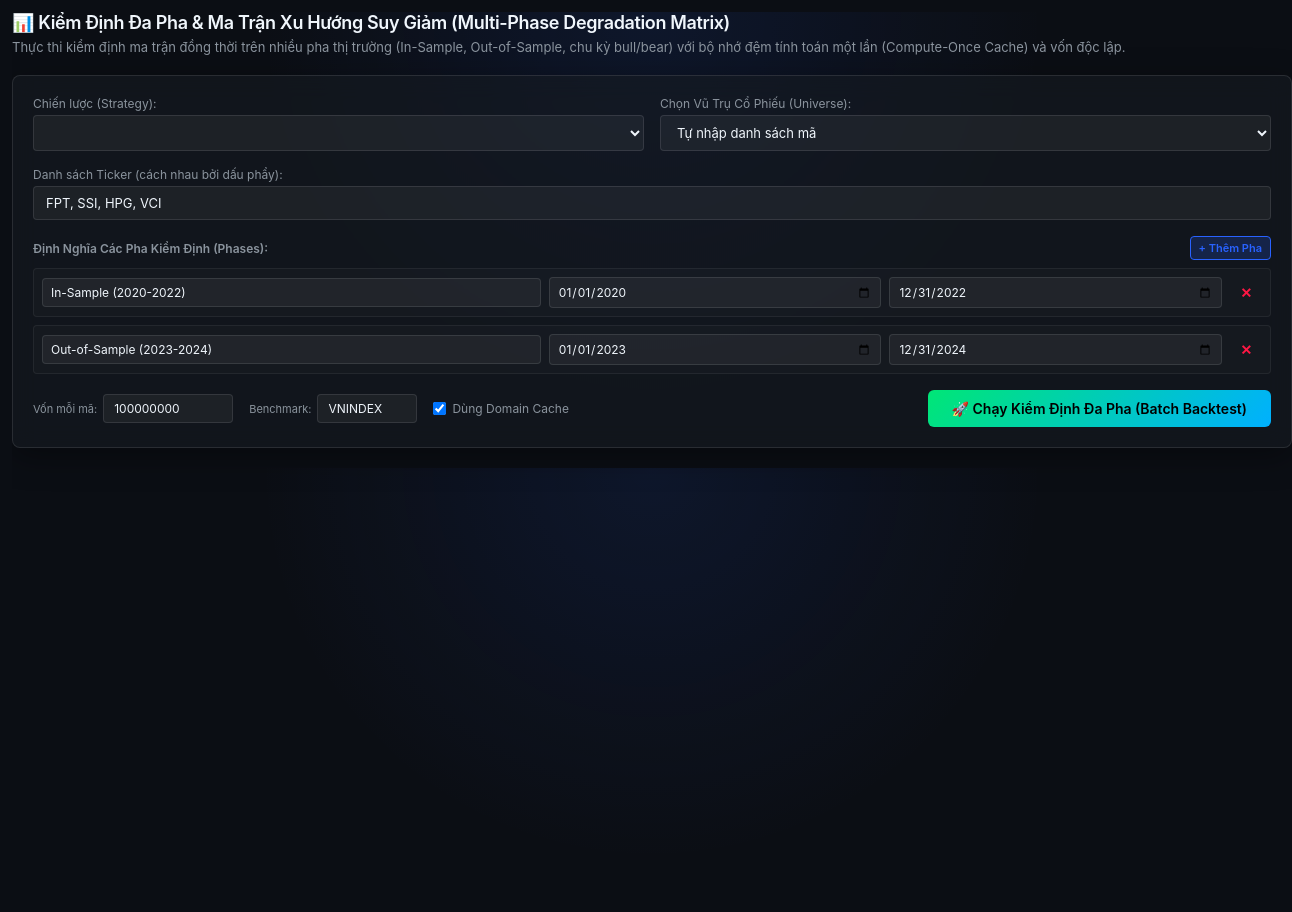
Test: MultiPhaseBatchPanel Component (FR-CORE-010, FR-CORE-012, Master F.5) › renders phase editor and allows adding new phases (FR-CORE-010)
This screenshot has width=1292, height=912.
Expected: the element with test id "multi-phase-batch-panel" is shown, [12,12,1291,448]
Expected: the element with test id "phase-row-0" is shown, [33,268,1271,317]
# Click Add Phase
Click the button with test id "add-phase-btn" at (1230, 248), box [1190,236,1271,260]
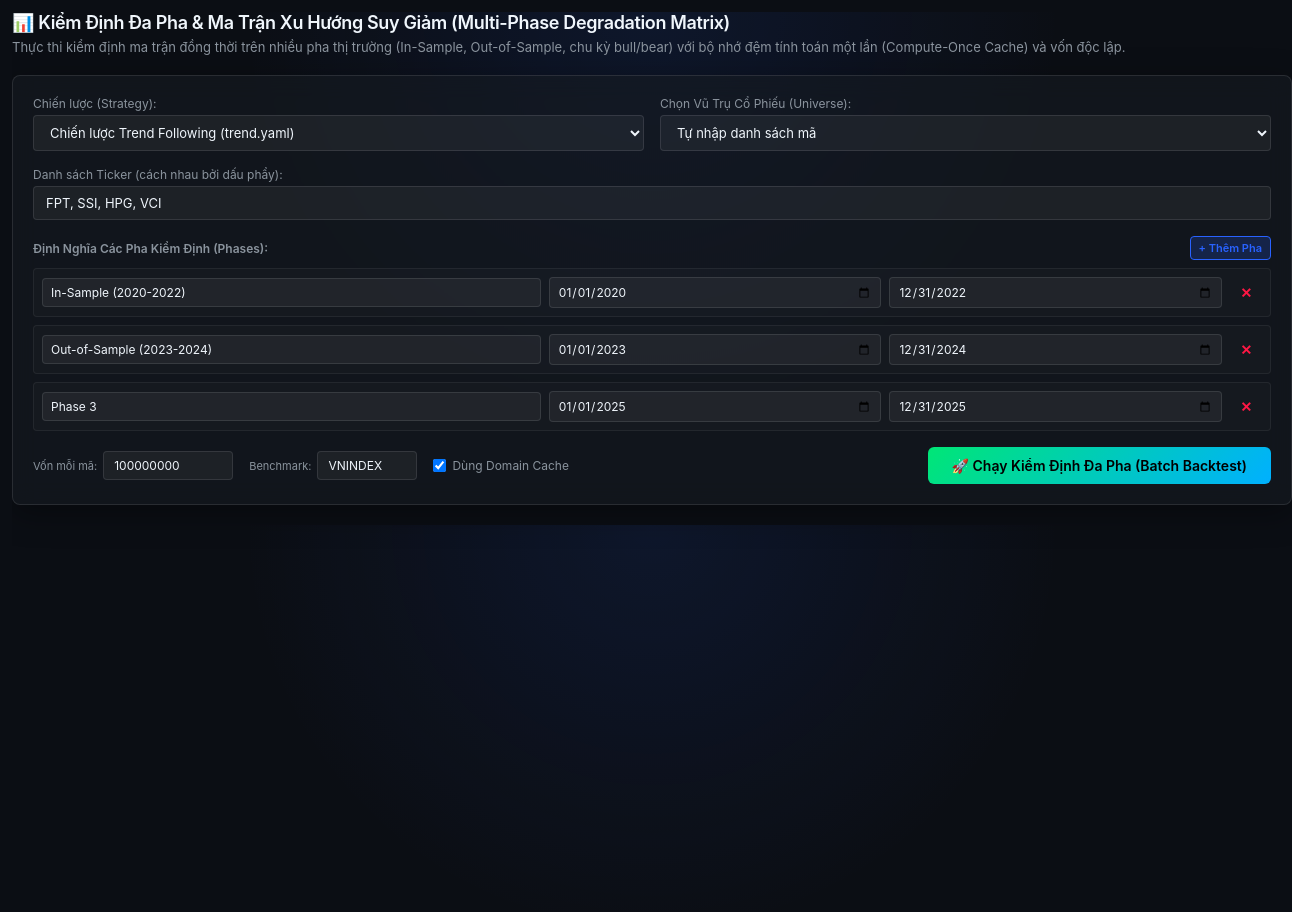
Now the element with test id "phase-row-2" is shown, box [33,382,1271,431]
